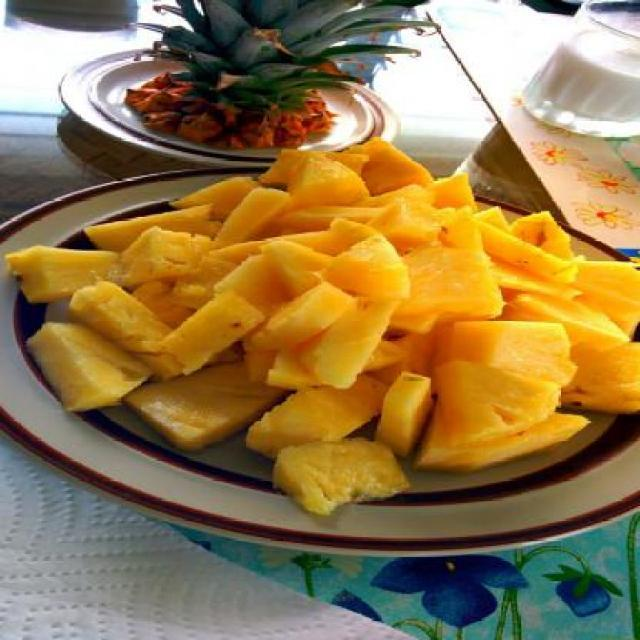Pineapple: (0, 137, 638, 520), (125, 0, 450, 154)
